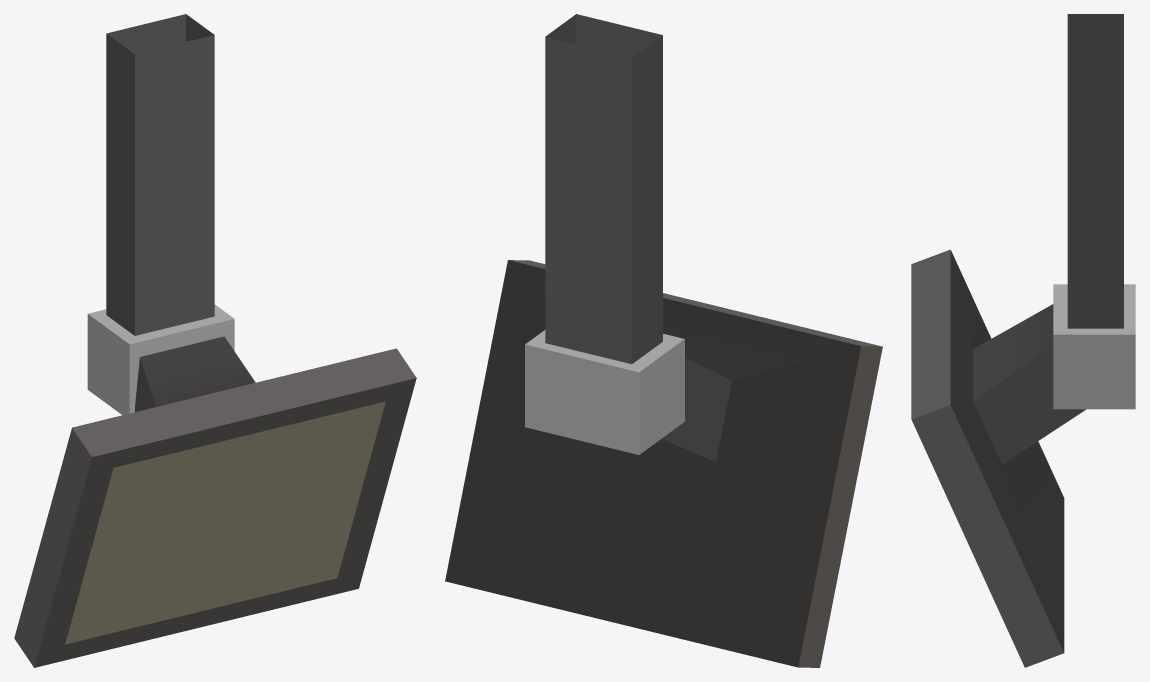
Rendered from Monitor2.glb.
3 views of the same model, side by side, from view 1: azimuth 30°, elevation 25°; view 2: azimuth 150°, elevation 25°; view 3: azimuth 270°, elevation 25° (orthographic). The views are drawn at different scales.
Visible parts, largest first — view 1: SI_Prop_Monitor_02; view 2: SI_Prop_Monitor_02; view 3: SI_Prop_Monitor_02.
Part boxes in pixels (x1,y1,x2,y2): SI_Prop_Monitor_02: [14, 14, 416, 667]; SI_Prop_Monitor_02: [445, 14, 882, 667]; SI_Prop_Monitor_02: [911, 14, 1135, 667].
Bounding box in the file's own units: 0.00978 × 0.0163 × 0.00596.
1 material, 1 textured.
